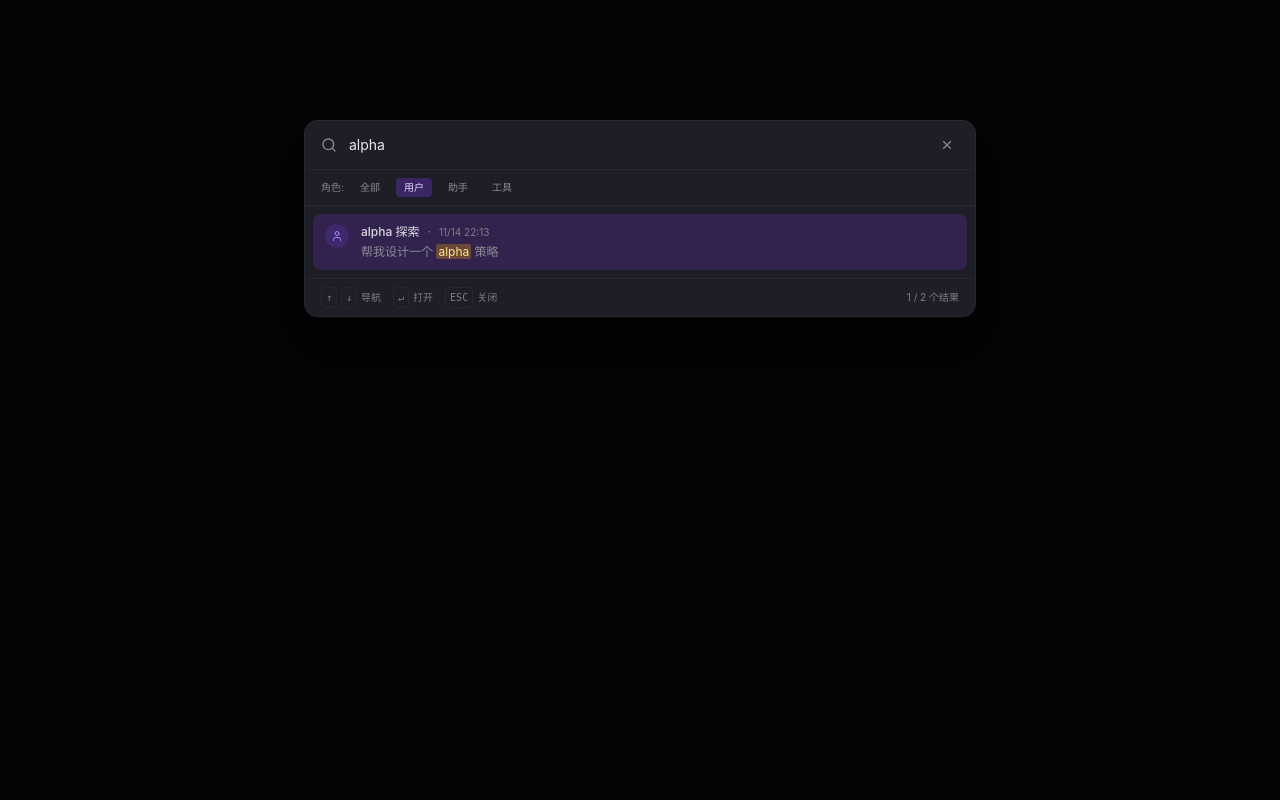
Scenario: SearchModal › clearing the filter restores all hits
This screenshot has width=1280, height=800.
Expected: the text "回测讨论" is not shown
What coordinates should you click on to do the following:
click the button with test id "search-role-filter-all"
I would click on:
 (370, 188)
Its box is x1=352 y1=178 x2=388 y2=197.
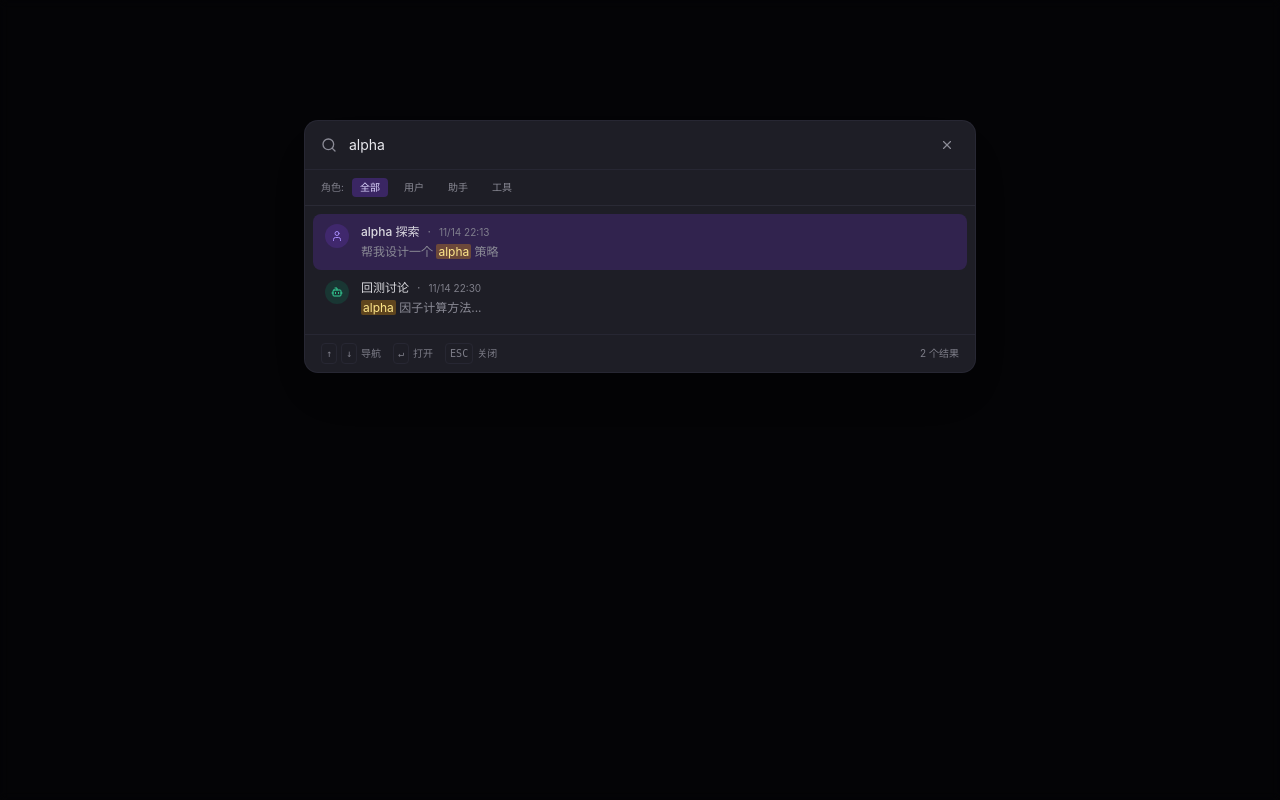
Expected: the text "alpha 探索" is shown, x1=361 y1=224 x2=420 y2=240
Expected: the text "回测讨论" is shown, x1=361 y1=280 x2=409 y2=296
